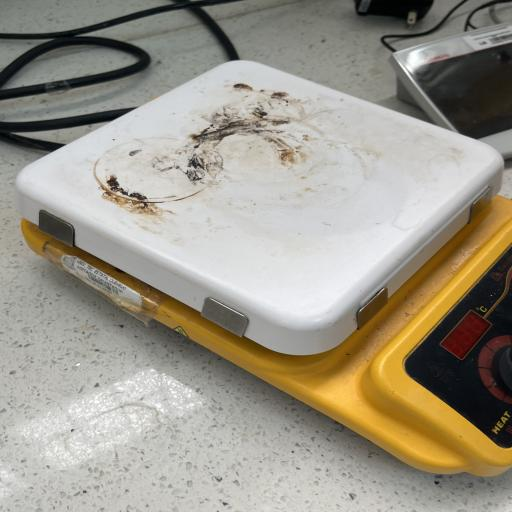Plancha_Agitacion_Cimarec: (7, 51, 512, 484)
